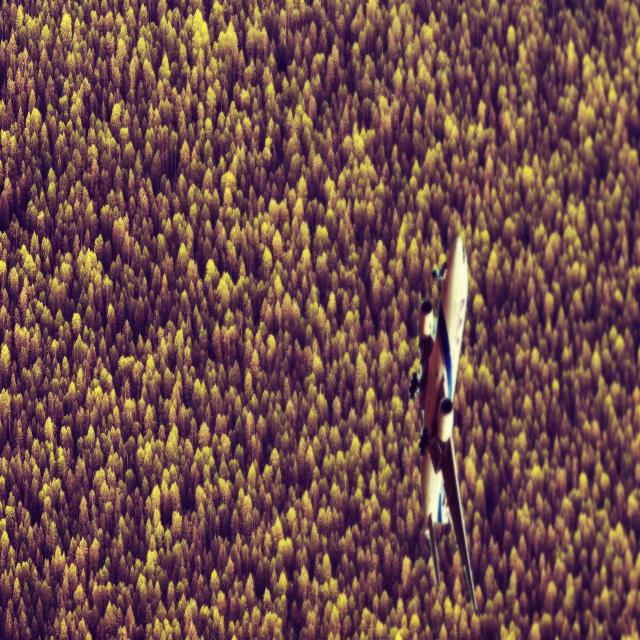airplane: (408, 234, 479, 616)
